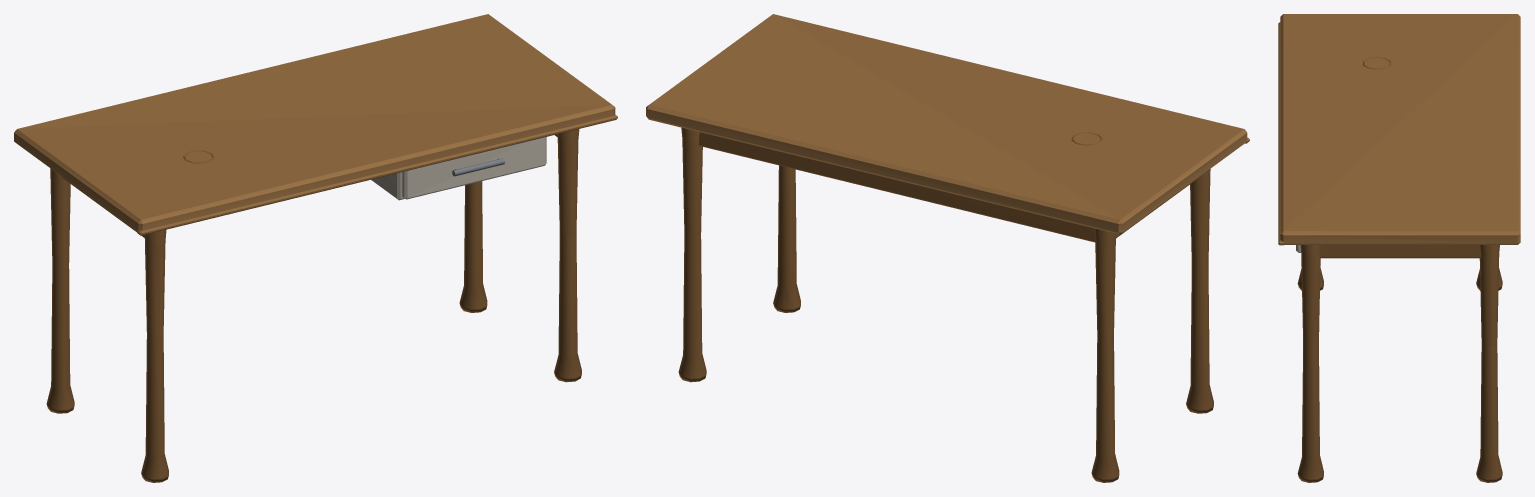
Rendered from writing_desk.glb.
The picture shows the model from 3 angles, left to right: view 1: azimuth 30°, elevation 25°; view 2: azimuth 150°, elevation 25°; view 3: azimuth 270°, elevation 25°; orthographic projection. The views are drawn at different scales.
Parts seen in each view (by area): view 1: writing_desk; view 2: writing_desk; view 3: writing_desk.
Boxes of the visible parts, box(x1,y1,x2,y2) form: writing_desk: box(14, 14, 617, 482); writing_desk: box(646, 14, 1249, 482); writing_desk: box(1278, 14, 1520, 482).
Bounding box in the file's own units: 1.34 × 0.7425 × 0.6252.
